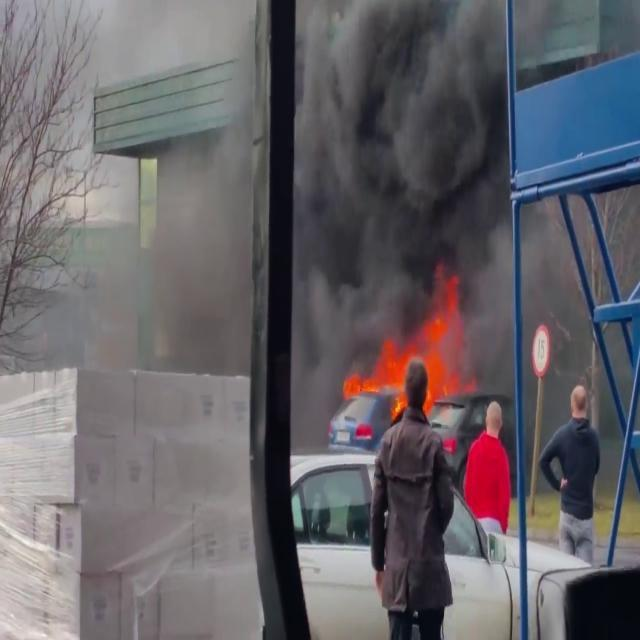Fire: (352, 310, 465, 416)
Smoke: (294, 1, 537, 333)
